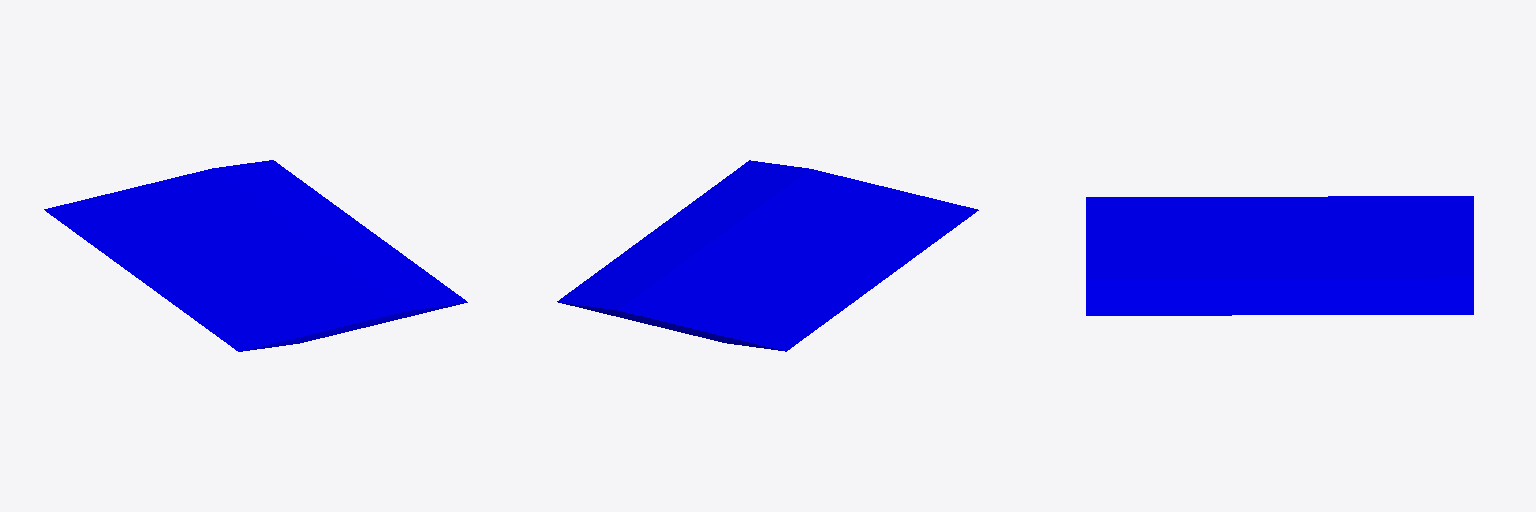
The model's file is planes_1-dynamic - BLK2GO-3630355-Scan 080 35.obj.
The picture shows the model from 3 angles: view 1: azimuth 30°, elevation 25°; view 2: azimuth 150°, elevation 25°; view 3: azimuth 270°, elevation 25°; orthographic projection.
Visible parts, largest first — view 1: 1-dynamic_-_BLK2GO-[number redacted]-Scan_080_35_0; view 2: 1-dynamic_-_BLK2GO-[number redacted]-Scan_080_35_0; view 3: 1-dynamic_-_BLK2GO-[number redacted]-Scan_080_35_0.
Boxes of the visible parts, x1=… form: 1-dynamic_-_BLK2GO-[number redacted]-Scan_080_35_0: x1=44, y1=160, x2=467, y2=351; 1-dynamic_-_BLK2GO-[number redacted]-Scan_080_35_0: x1=557, y1=160, x2=978, y2=351; 1-dynamic_-_BLK2GO-[number redacted]-Scan_080_35_0: x1=1086, y1=196, x2=1473, y2=315.
Bounding box in the file's own units: 1.38 × 0.0407 × 2.01.